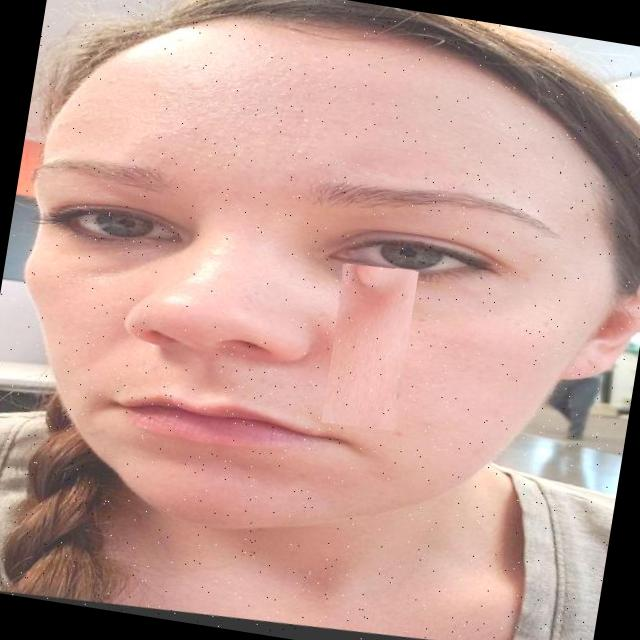redness: (323, 268, 415, 433)
